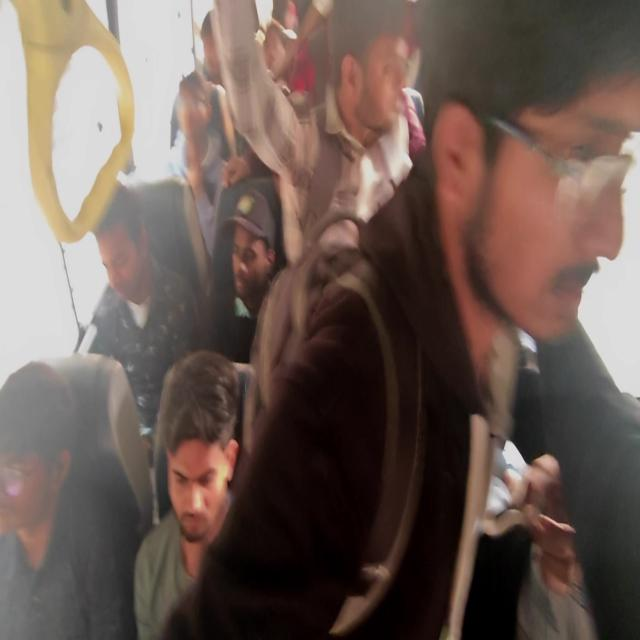person: (434, 0, 627, 335), (163, 372, 230, 540), (0, 382, 69, 512), (90, 187, 146, 305), (350, 15, 414, 110), (222, 186, 274, 295), (174, 64, 221, 151), (198, 4, 240, 99), (263, 24, 290, 69)
